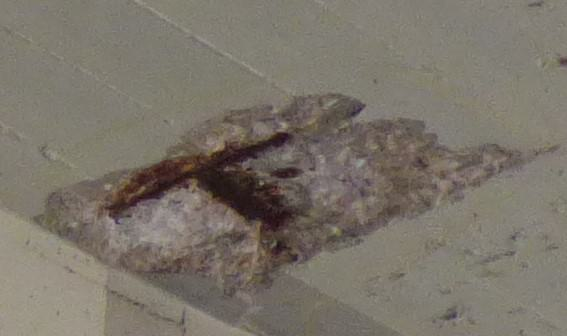Corrosion: (115, 154, 210, 201), (269, 166, 305, 179)
Exposed reinforcement: (105, 132, 289, 212), (199, 174, 279, 227)
Spalling: (30, 91, 527, 296)
